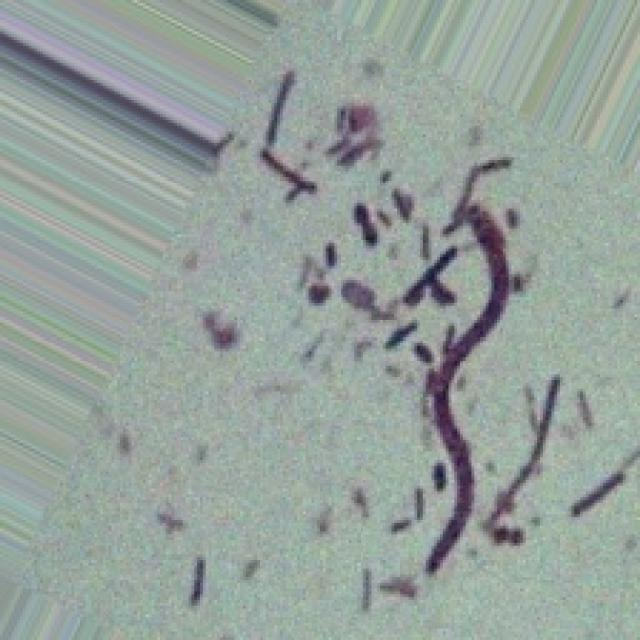Rod_bacteria: (20, 0, 637, 637)
